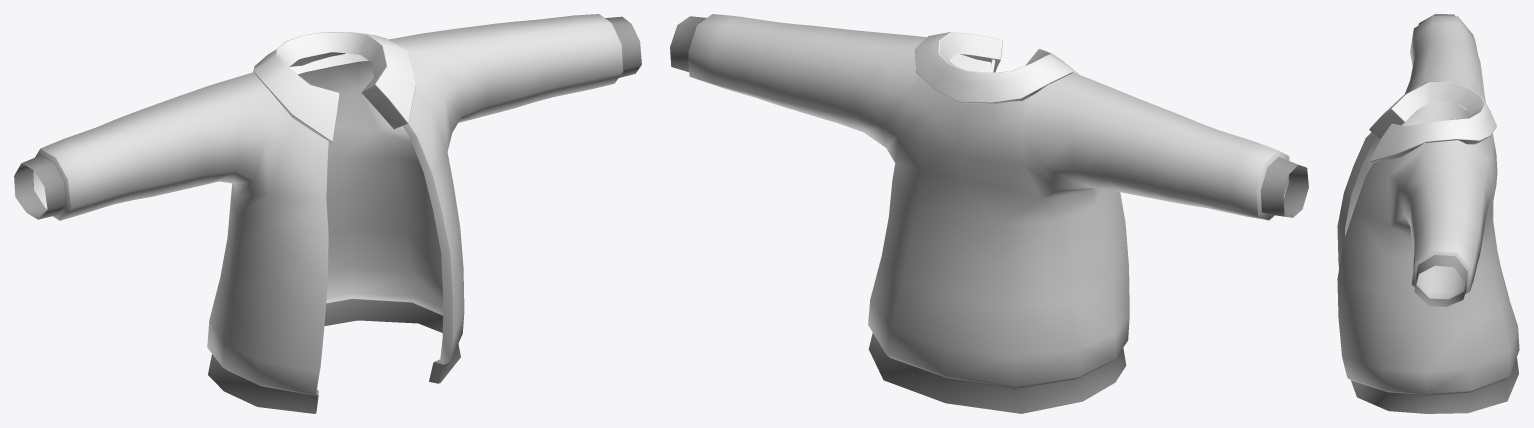
Rendered from Outerwear_White_006.glb.
The picture shows the model from 3 angles, left to right: view 1: azimuth 30°, elevation 25°; view 2: azimuth 150°, elevation 25°; view 3: azimuth 270°, elevation 25°; orthographic projection. The views are drawn at different scales.
Visible parts, largest first — view 1: Outerwear_White_006; view 2: Outerwear_White_006; view 3: Outerwear_White_006.
Part boxes in pixels (<box>): Outerwear_White_006: <box>14,14,641,413</box>; Outerwear_White_006: <box>670,14,1308,413</box>; Outerwear_White_006: <box>1337,14,1519,413</box>.
Bounding box in the file's own units: 1.29 × 0.6459 × 0.3903.
1 material, 1 textured.
